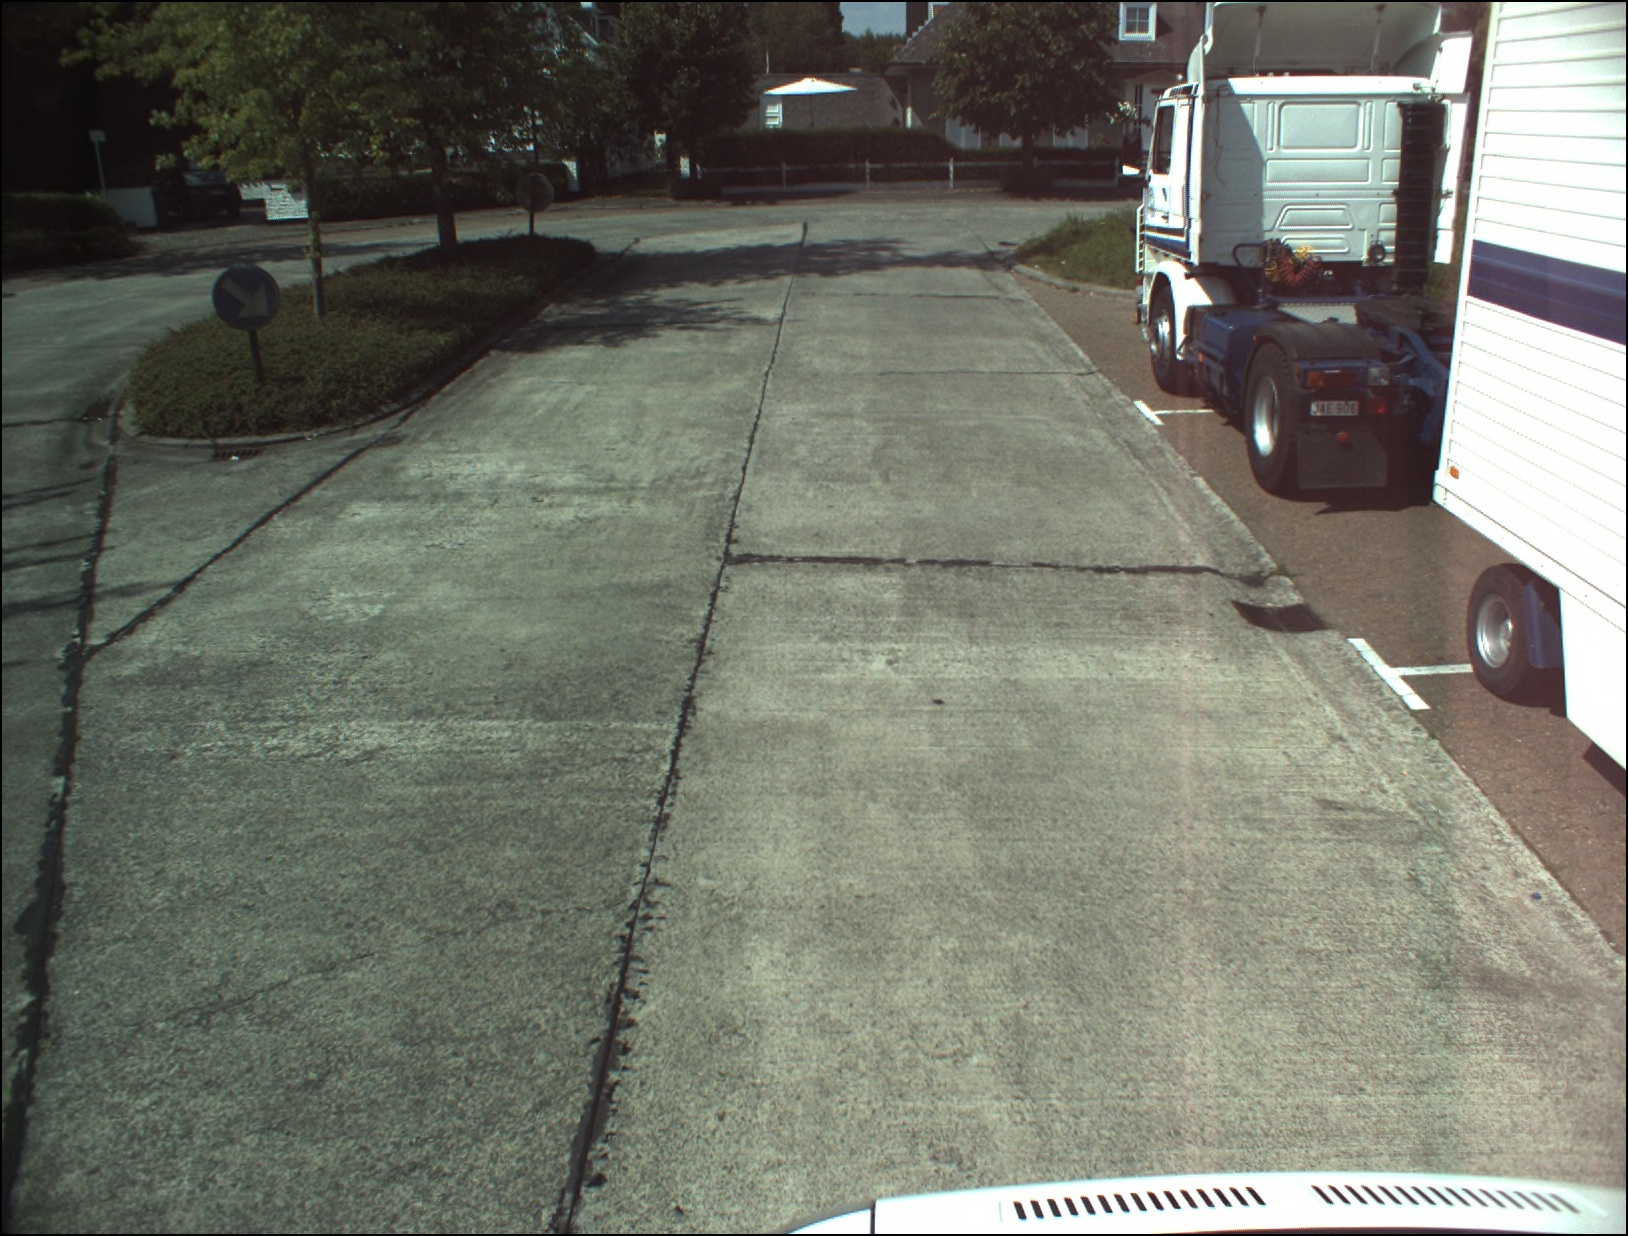passright: (213, 267, 279, 327)
